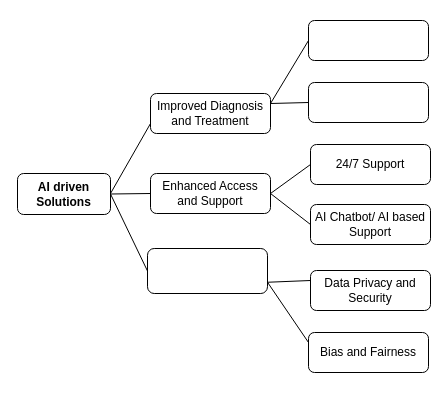
This 448x393 diagram has some shape labels left out. Here are the shapes that lost their labels. From the top down, the centre of each, then its label:
At [368,40]: "Early Detection".
At [368,102]: "Personalized Treatment".
At [207,271]: "Ethical Considerations and Challenges".
